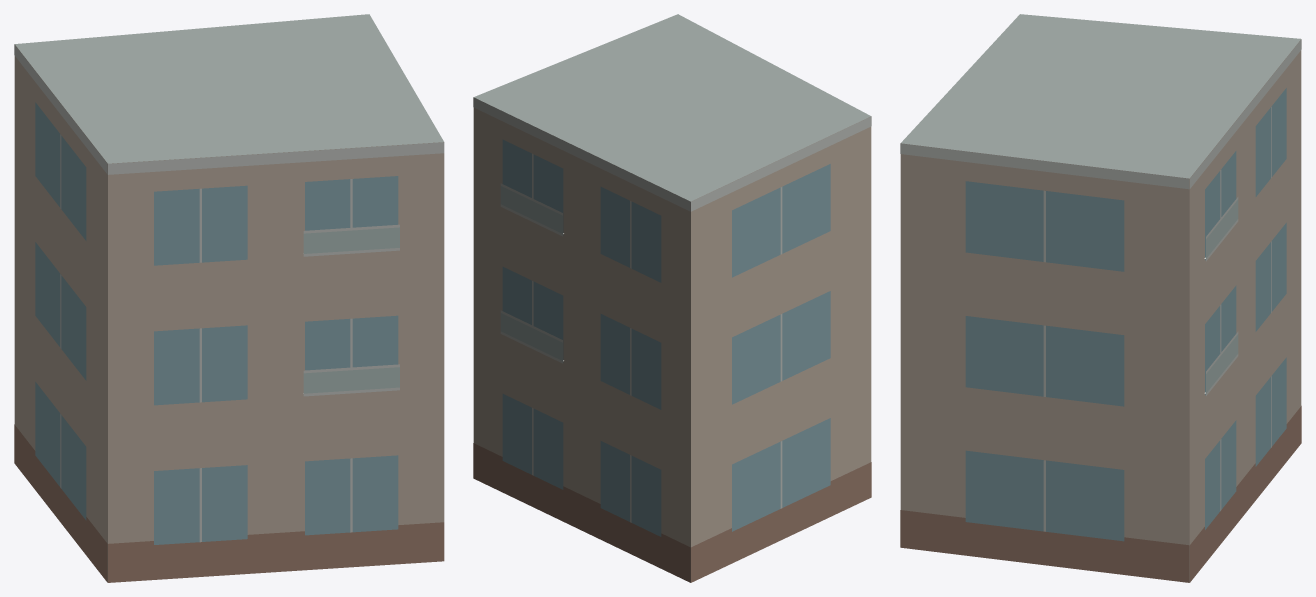
The model's file is survey-upis-32499728.glb.
3 views of the same model, side by side, from view 1: azimuth 30°, elevation 25°; view 2: azimuth 150°, elevation 25°; view 3: azimuth 270°, elevation 25° (orthographic). The views are drawn at different scales.
Visible parts, largest first — view 1: survey-upis-32499728.tmp; view 2: survey-upis-32499728.tmp; view 3: survey-upis-32499728.tmp.
Part boxes in pixels (x1,y1,x2,y2): survey-upis-32499728.tmp: (14,14,444,582); survey-upis-32499728.tmp: (473,14,871,582); survey-upis-32499728.tmp: (900,14,1301,582).
Size of the model in its own units: 8 by 9.15 by 8.24.
